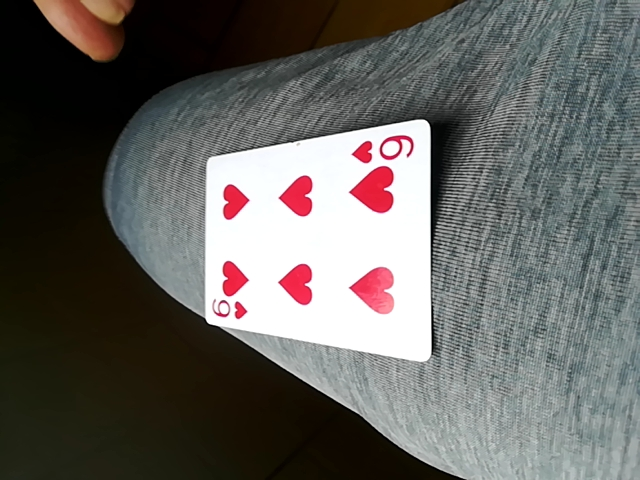hx 6: (197, 118, 434, 365)
